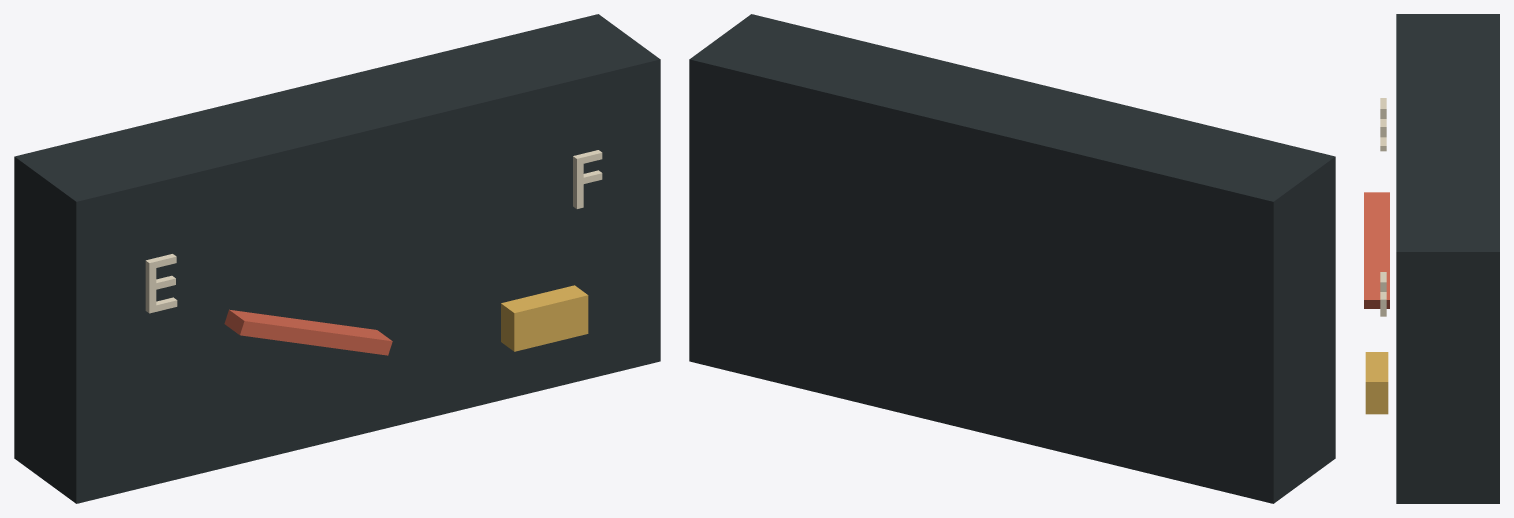
Rendered from pickup_low_fuel_gauge.glb.
3 views of the same model, side by side, from view 1: azimuth 30°, elevation 25°; view 2: azimuth 150°, elevation 25°; view 3: azimuth 270°, elevation 25° (orthographic). The views are drawn at different scales.
Parts seen in each view (by area): view 1: Dash insert, Low fuel warning, Low fuel needle, E, F; view 2: Dash insert; view 3: Dash insert, Low fuel needle, Low fuel warning, E, F.
Boxes of the visible parts, <box> form: Dash insert: <box>14,14,660,503</box>; Low fuel warning: <box>501,285,588,351</box>; Low fuel needle: <box>224,309,392,355</box>; E: <box>145,254,177,313</box>; F: <box>573,150,602,208</box>; Dash insert: <box>689,14,1335,503</box>; Dash insert: <box>1396,14,1499,503</box>; Low fuel needle: <box>1364,192,1389,308</box>; Low fuel warning: <box>1365,352,1388,414</box>; E: <box>1380,98,1386,151</box>; F: <box>1380,272,1386,316</box>.
Size of the model in its own units: 0.174 by 0.086 by 0.042.
